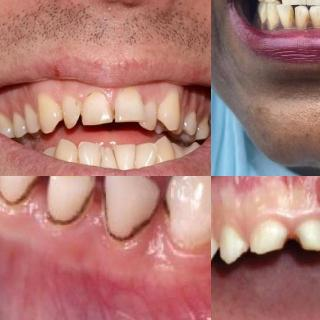cavities: (274, 227, 296, 253), (291, 232, 311, 256)
maligned: (156, 89, 184, 129), (138, 101, 162, 131), (58, 98, 82, 128), (131, 142, 159, 166), (76, 140, 101, 166), (115, 143, 136, 172), (274, 1, 292, 29), (96, 147, 114, 170), (294, 3, 308, 26), (308, 1, 320, 24)
stains: (107, 210, 155, 241), (49, 194, 91, 224), (158, 179, 180, 232), (0, 176, 38, 200), (285, 8, 295, 31), (106, 105, 118, 124), (299, 11, 311, 29), (310, 10, 320, 28)
